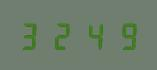four: (78, 20, 107, 50)
nine: (108, 20, 137, 50)
three: (18, 20, 47, 50)
two: (48, 20, 77, 50)
